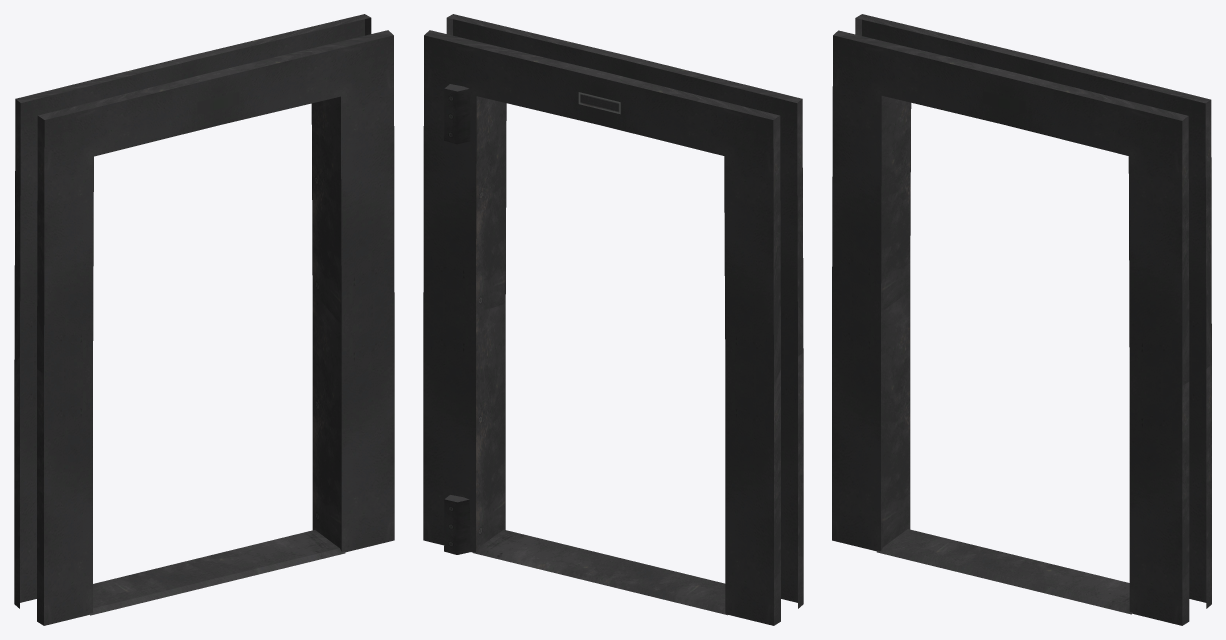
The model's file is com_vault_frame_black_lod1.glb.
3 views of the same model, side by side, from view 1: azimuth 30°, elevation 25°; view 2: azimuth 150°, elevation 25°; view 3: azimuth 330°, elevation 25° (orthographic).
Visible parts, largest first — view 1: surf0; view 2: surf0; view 3: surf0.
Part boxes in pixels (bbox=[...]): surf0: bbox=[14, 14, 394, 625]; surf0: bbox=[423, 14, 803, 625]; surf0: bbox=[832, 14, 1211, 625].
Size of the model in its own units: 81.33 by 112 by 15.
